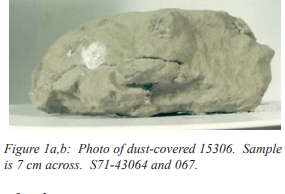Breccia: (24, 0, 274, 126)
